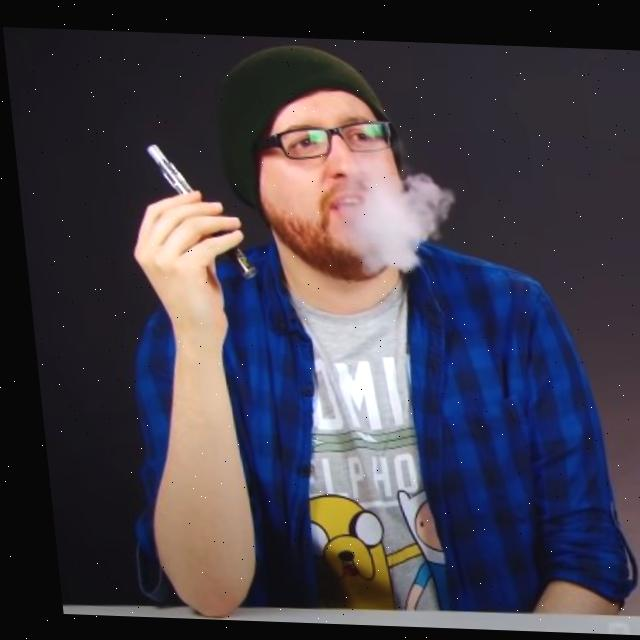vape: (143, 141, 252, 278)
